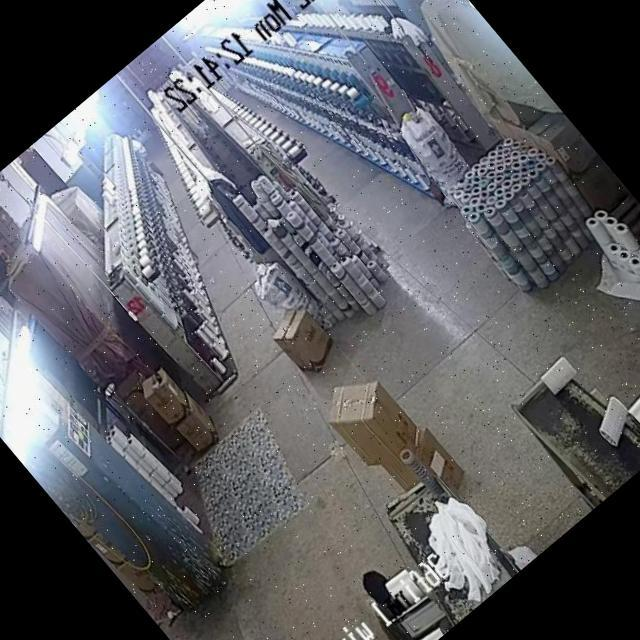person: (351, 568, 431, 640)
